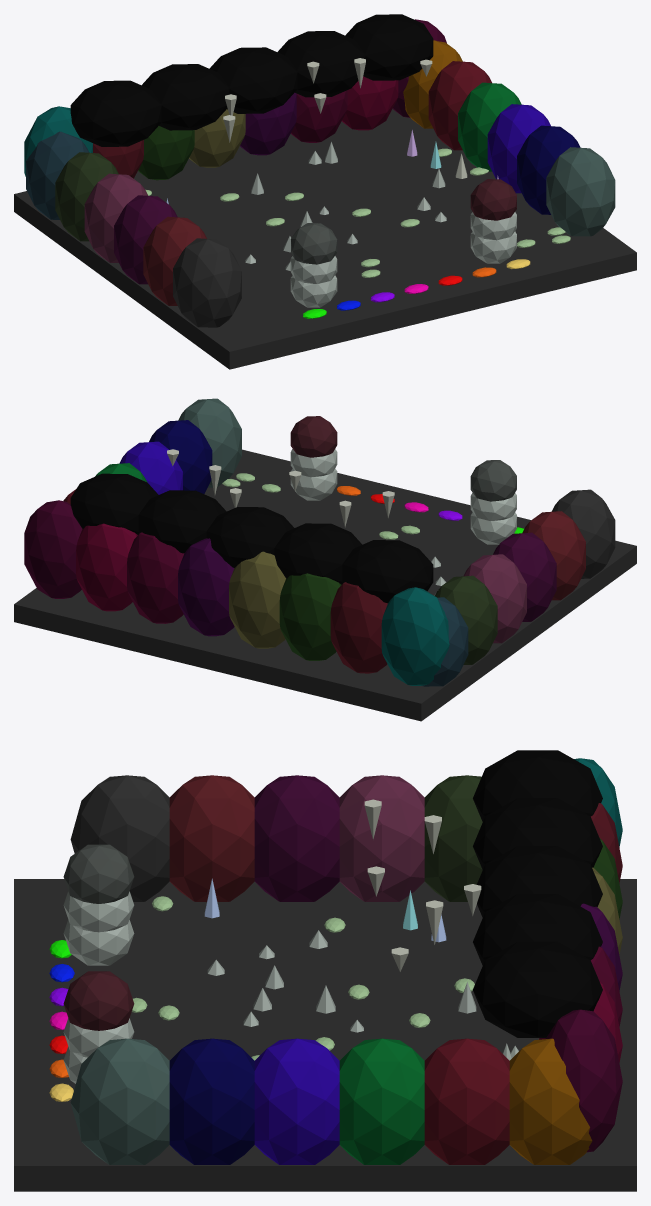
Rendered from Cueva.glb.
3 views of the same model, one above another, from view 1: azimuth 30°, elevation 25°; view 2: azimuth 150°, elevation 25°; view 3: azimuth 270°, elevation 25° (orthographic). The views are drawn at different scales.
Parts seen in each view (by area): view 1: Suelo_cueva, Pared_lateral_1_0, Pared_lateral_-1_0, Boveda_0, Boveda_4, Boveda_1, Boveda_2, Boveda_3, Arco_entrada_-1_2, Arco_entrada_1_2, Pared_lateral_-1_2, Pared_lateral_-1_3 (+16 smaller); view 2: Suelo_cueva, Pared_fondo_0, Pared_fondo_7, Pared_fondo_3, Pared_fondo_4, Pared_fondo_2, Pared_fondo_6, Boveda_0, Pared_fondo_1, Pared_fondo_5, Boveda_1, Boveda_4 (+13 smaller); view 3: Suelo_cueva, Pared_lateral_1_0, Pared_lateral_-1_2, Pared_lateral_1_3, Pared_lateral_1_4, Pared_lateral_1_1, Pared_lateral_1_2, Pared_lateral_-1_1, Pared_lateral_-1_3, Boveda_4, Pared_lateral_-1_0, Pared_lateral_1_5 (+15 smaller).
Part boxes in pixels (left/top/right/bottom): Suelo_cueva: left=14, top=109, right=636, bottom=369; Pared_lateral_1_0: left=546, top=147, right=615, bottom=236; Pared_lateral_-1_0: left=173, top=238, right=241, bottom=327; Boveda_0: left=70, top=80, right=161, bottom=146; Boveda_4: left=345, top=14, right=433, bottom=80; Boveda_1: left=141, top=64, right=229, bottom=130; Boveda_2: left=209, top=47, right=297, bottom=113; Boveda_3: left=277, top=31, right=365, bottom=97; Arco_entrada_-1_2: left=290, top=223, right=337, bottom=307; Arco_entrada_1_2: left=470, top=179, right=516, bottom=263; Pared_lateral_-1_2: left=114, top=195, right=177, bottom=284; Pared_lateral_-1_3: left=84, top=173, right=148, bottom=262; Suelo_cueva: left=14, top=449, right=636, bottom=721; Pared_fondo_0: left=381, top=587, right=449, bottom=685; Pared_fondo_7: left=24, top=500, right=82, bottom=598; Pared_fondo_3: left=229, top=551, right=285, bottom=648; Pared_fondo_4: left=178, top=538, right=234, bottom=636; Pared_fondo_2: left=279, top=573, right=341, bottom=660; Pared_fondo_6: left=76, top=523, right=137, bottom=611; Boveda_0: left=342, top=540, right=433, bottom=603; Pared_fondo_1: left=330, top=582, right=387, bottom=673; Pared_fondo_5: left=127, top=532, right=184, bottom=623; Boveda_1: left=274, top=523, right=362, bottom=584; Boveda_4: left=70, top=473, right=158, bottom=534; Suelo_cueva: left=14, top=879, right=636, bottom=1191; Pared_lateral_1_0: left=70, top=1038, right=169, bottom=1164; Pared_lateral_-1_2: left=254, top=775, right=339, bottom=901; Pared_lateral_1_3: left=339, top=1038, right=424, bottom=1164; Pared_lateral_1_4: left=424, top=1038, right=509, bottom=1164; Pared_lateral_1_1: left=169, top=1038, right=254, bottom=1164; Pared_lateral_1_2: left=254, top=1038, right=339, bottom=1164; Pared_lateral_-1_1: left=169, top=775, right=254, bottom=901; Pared_lateral_-1_3: left=339, top=775, right=424, bottom=901; Boveda_4: left=473, top=941, right=602, bottom=1037; Pared_lateral_-1_0: left=70, top=775, right=169, bottom=901; Pared_lateral_1_5: left=509, top=1038, right=592, bottom=1164.
Size of the model in its own units: 25.6 by 7.6 by 22.
